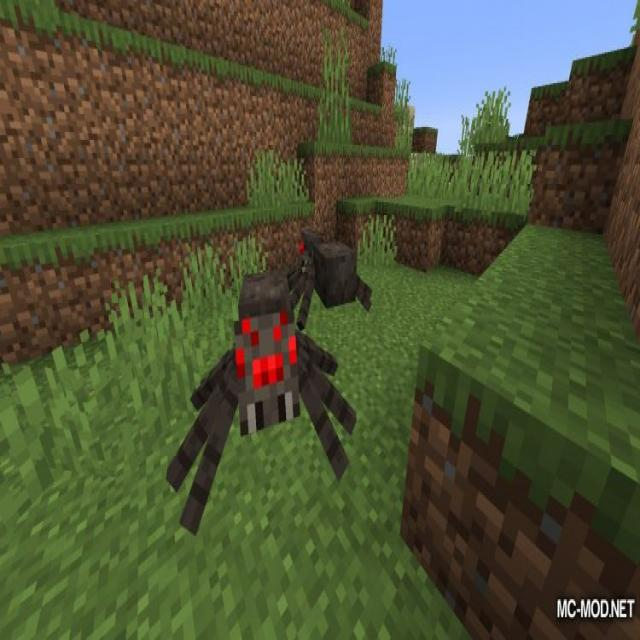Spider: (165, 267, 356, 539), (287, 226, 372, 328)
